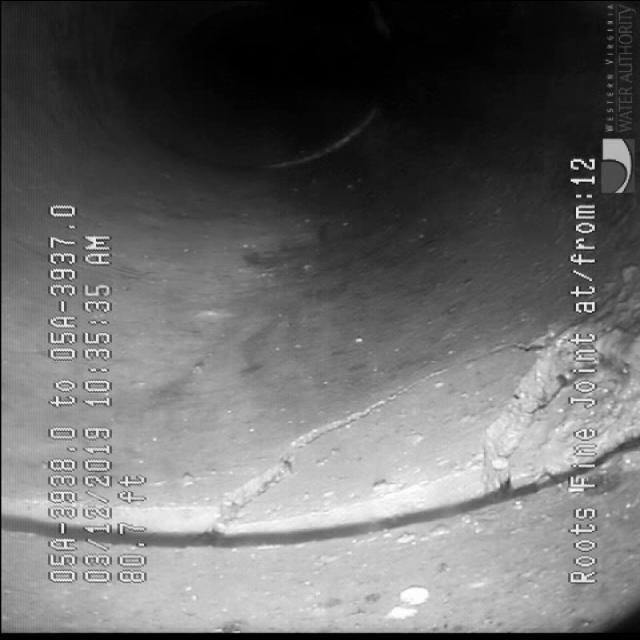Crack: (148, 358, 460, 518)
